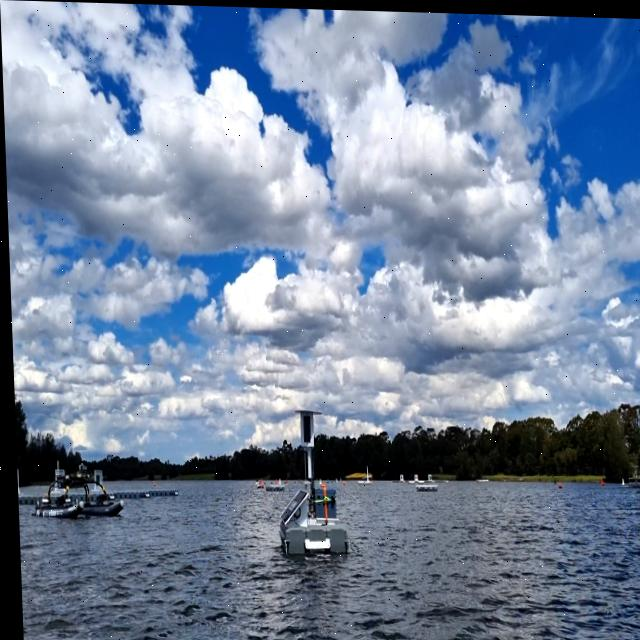led: (299, 412, 310, 444)
